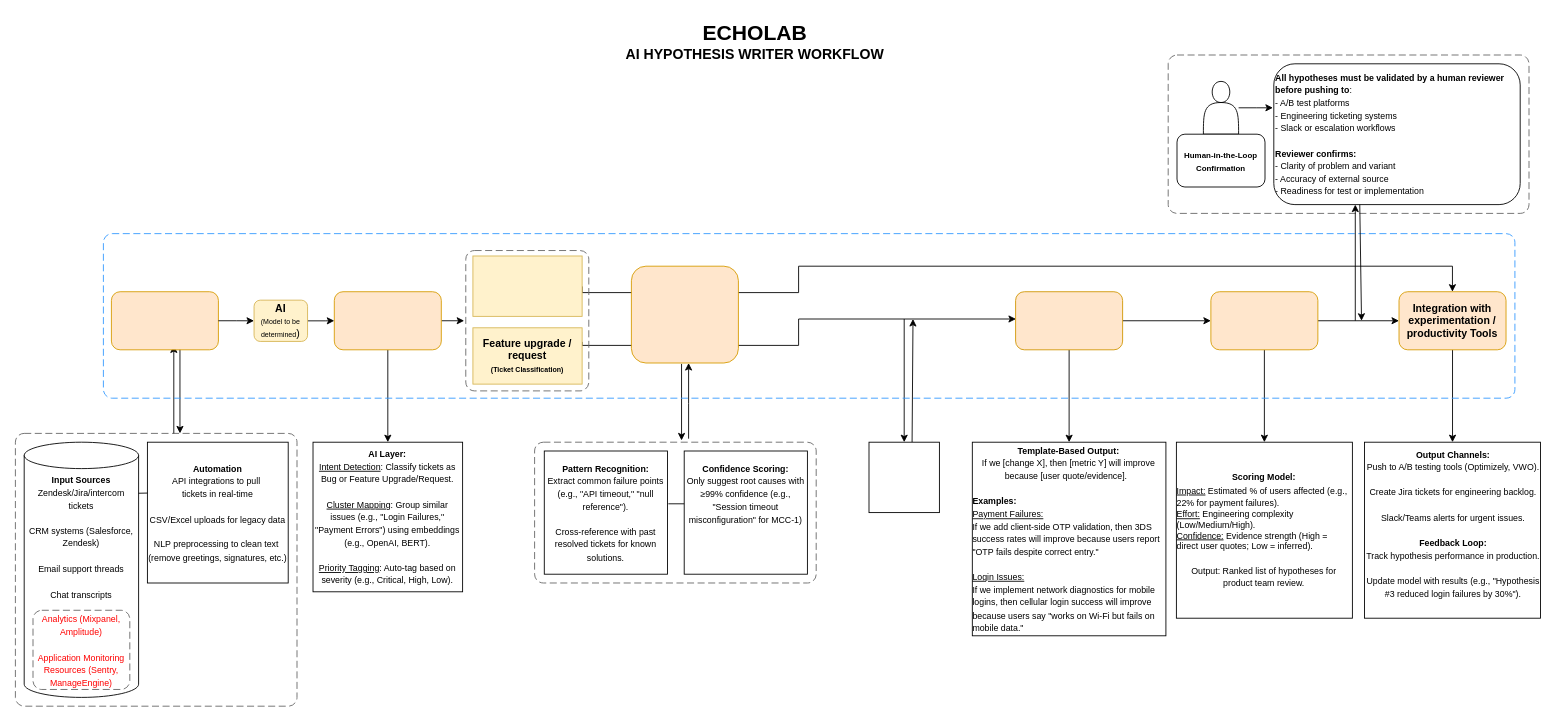
Some shapes in this 1557 by 722 pixel diagram are drawn without their labels. Each missing label, with the centre of its shape:
"Bug (Ticket Classification)" belongs at (527,285).
"Data Ingestion" belongs at (164,320).
"Hypotheses Generation" belongs at (1069,320).
"Hypotheses Prioritization" belongs at (1264,320).
"RAG" belongs at (903,477).
"Root Cause Analysis" belongs at (684,314).
"Ticket Classification & Clustering" belongs at (387,320).
